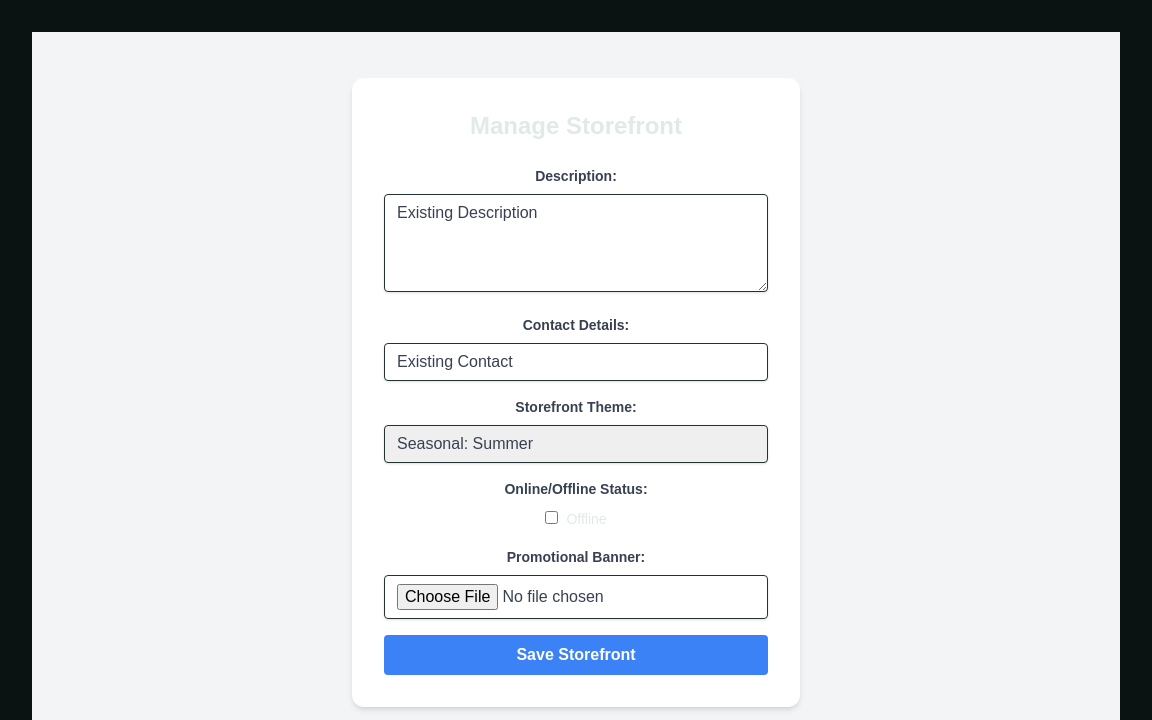
EditBusinessStorefront › handles submission error
Replace the text in the text box labelled "Description:" with "Test Description": (576, 242) [384,194,768,292]
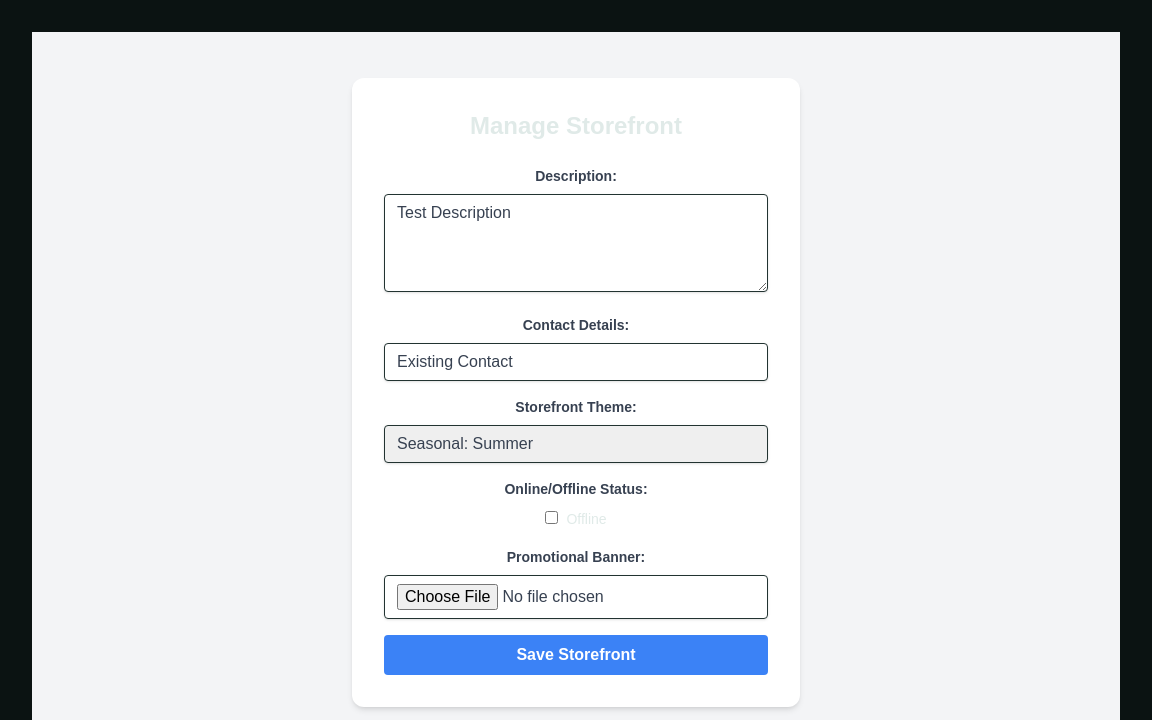
Replace the text in the field labelled "Contact Details:" with "test@error.com": (576, 362) [384,342,768,380]
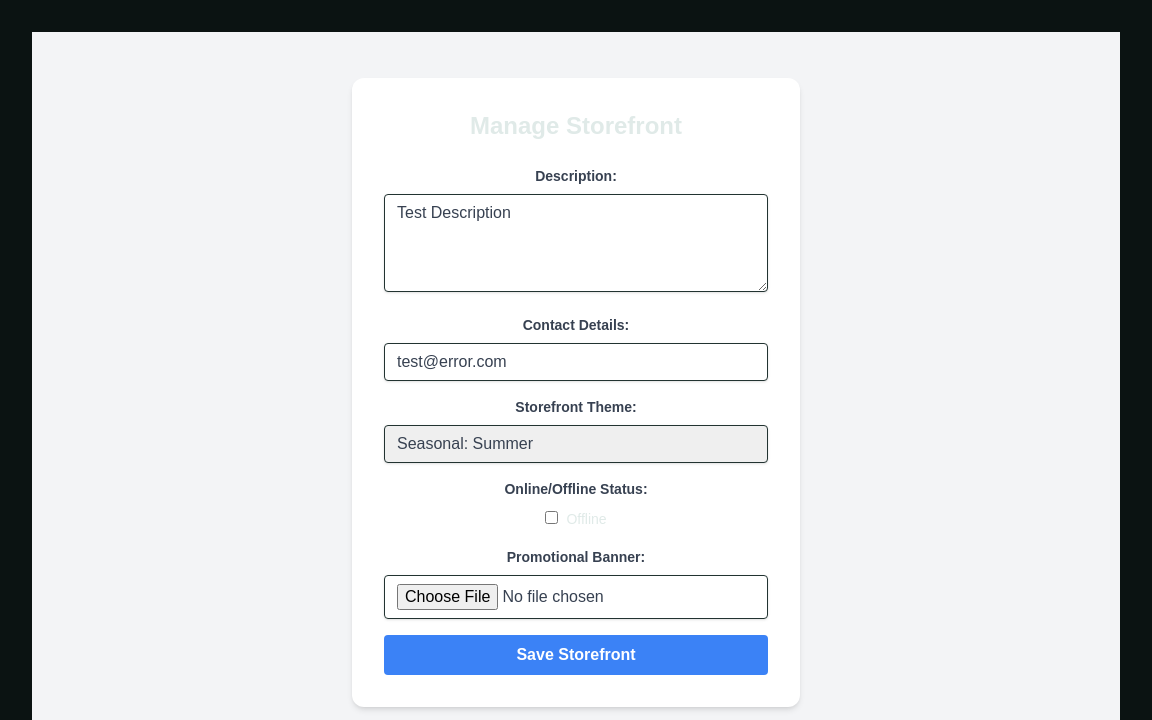
Click the button "Save Storefront": (576, 654) [384,634,768,674]
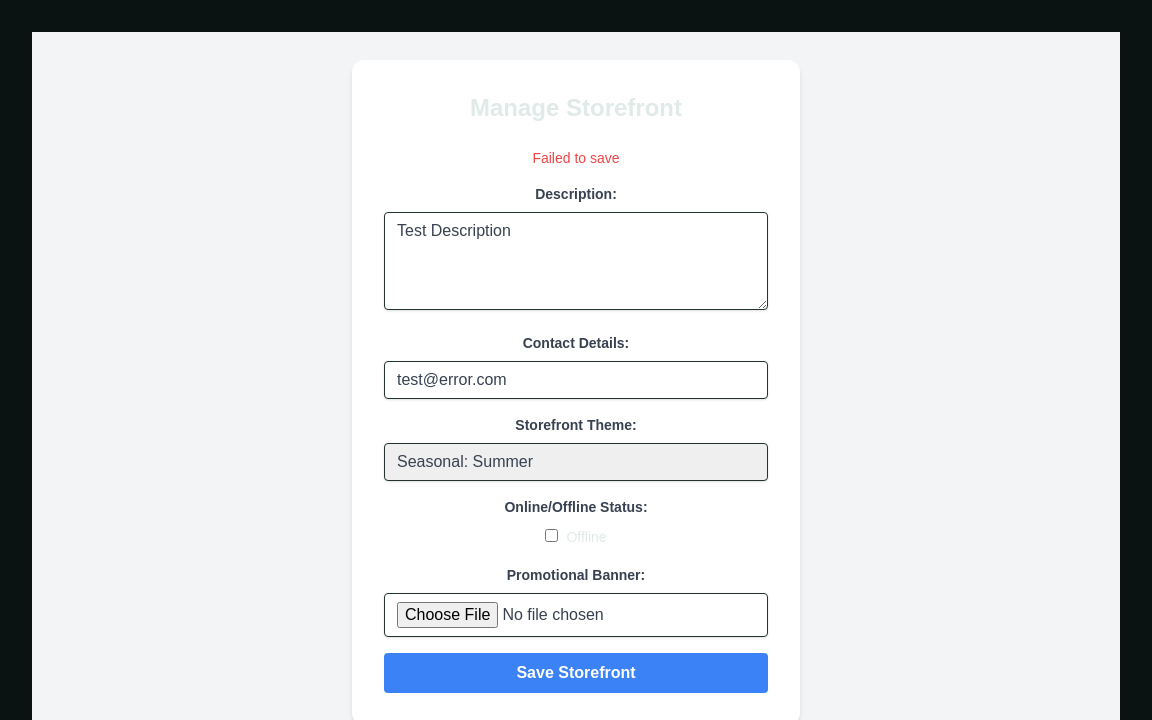
Now the text "Failed to save" is shown, box [532,150,620,166]
